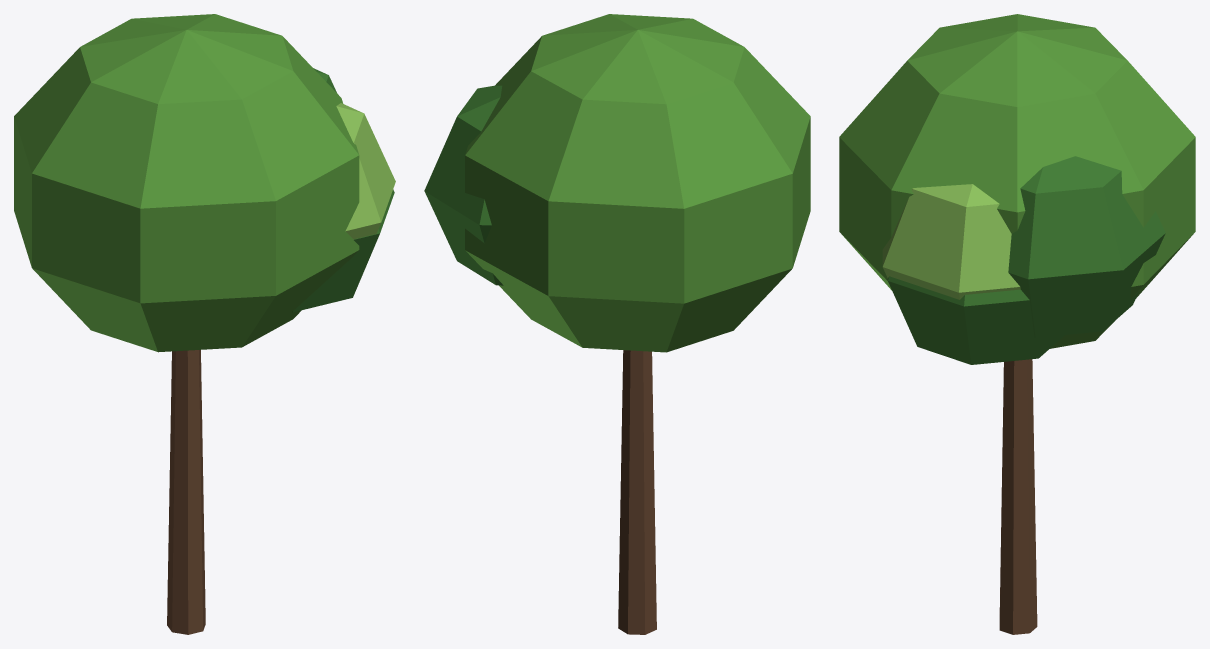
File: Tree_Round_Medium.glb
3 renders of one model, left to right at view 1: azimuth 30°, elevation 25°; view 2: azimuth 150°, elevation 25°; view 3: azimuth 270°, elevation 25°, orthographic.
Visible parts, largest first — view 1: Tree_Round_Medium; view 2: Tree_Round_Medium; view 3: Tree_Round_Medium.
Boxes of the visible parts, x1,y1,x2,y2 form: Tree_Round_Medium: (14,14,395,634); Tree_Round_Medium: (424,14,810,634); Tree_Round_Medium: (839,14,1195,634).
Size of the model in its own units: 2.68 by 4.55 by 2.47.
1 material, 1 textured.
